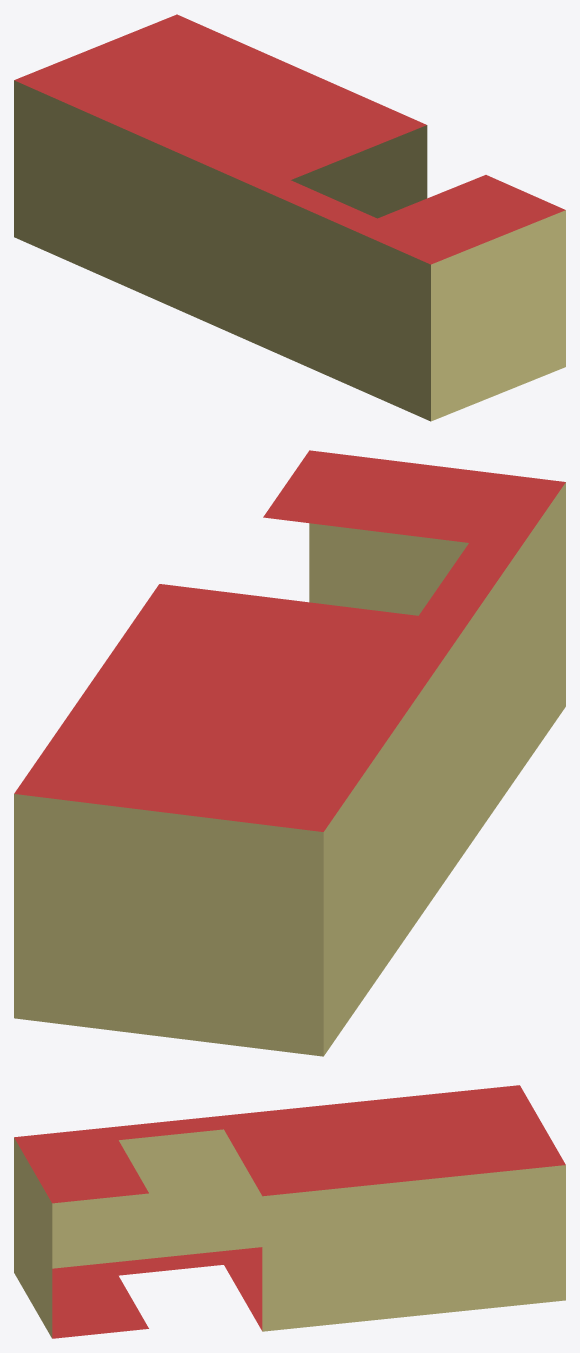
The picture shows the model from 3 angles, top to bottom: view 1: azimuth 30°, elevation 25°; view 2: azimuth 150°, elevation 25°; view 3: azimuth 270°, elevation 25°; orthographic projection. The views are drawn at different scales.
Size of the model in its own units: 11.57 by 22.82 by 6.18.
